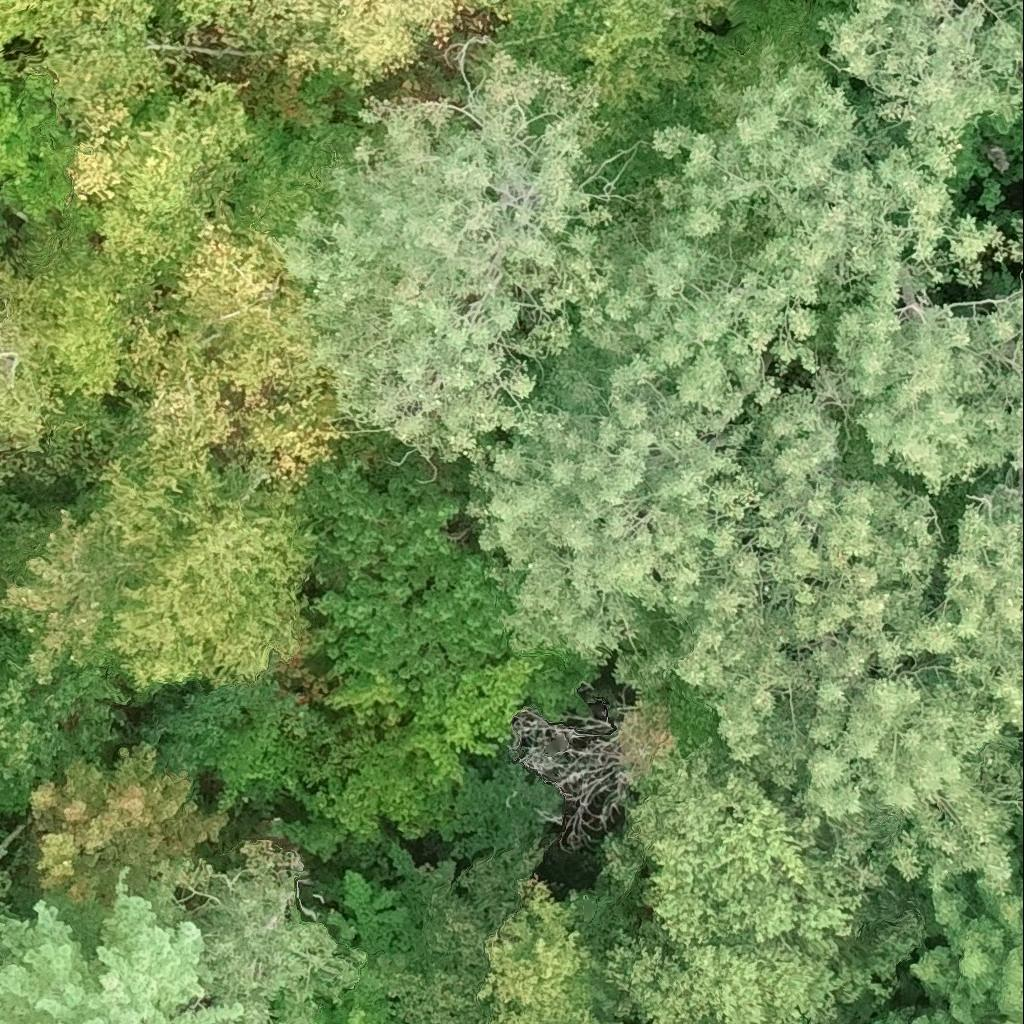crown: (286, 56, 612, 454), (683, 397, 937, 775), (661, 61, 1023, 313), (478, 398, 758, 663), (69, 410, 320, 701), (109, 199, 349, 496), (537, 217, 821, 462), (30, 17, 272, 276), (632, 729, 894, 947), (807, 650, 1023, 889), (291, 464, 518, 682), (28, 744, 227, 960), (475, 0, 739, 143), (839, 287, 1023, 492), (0, 870, 244, 1023), (821, 0, 1023, 181), (179, 840, 367, 1023), (143, 0, 505, 87), (37, 251, 161, 478), (324, 654, 538, 784), (0, 506, 148, 687), (874, 850, 1023, 1023), (604, 932, 884, 1023), (136, 678, 327, 809), (0, 634, 129, 819), (932, 486, 1023, 716), (512, 710, 634, 855), (481, 880, 602, 1023), (0, 232, 70, 460), (318, 869, 409, 1023), (0, 0, 155, 49), (0, 902, 19, 923), (0, 933, 11, 967), (0, 874, 10, 896)
